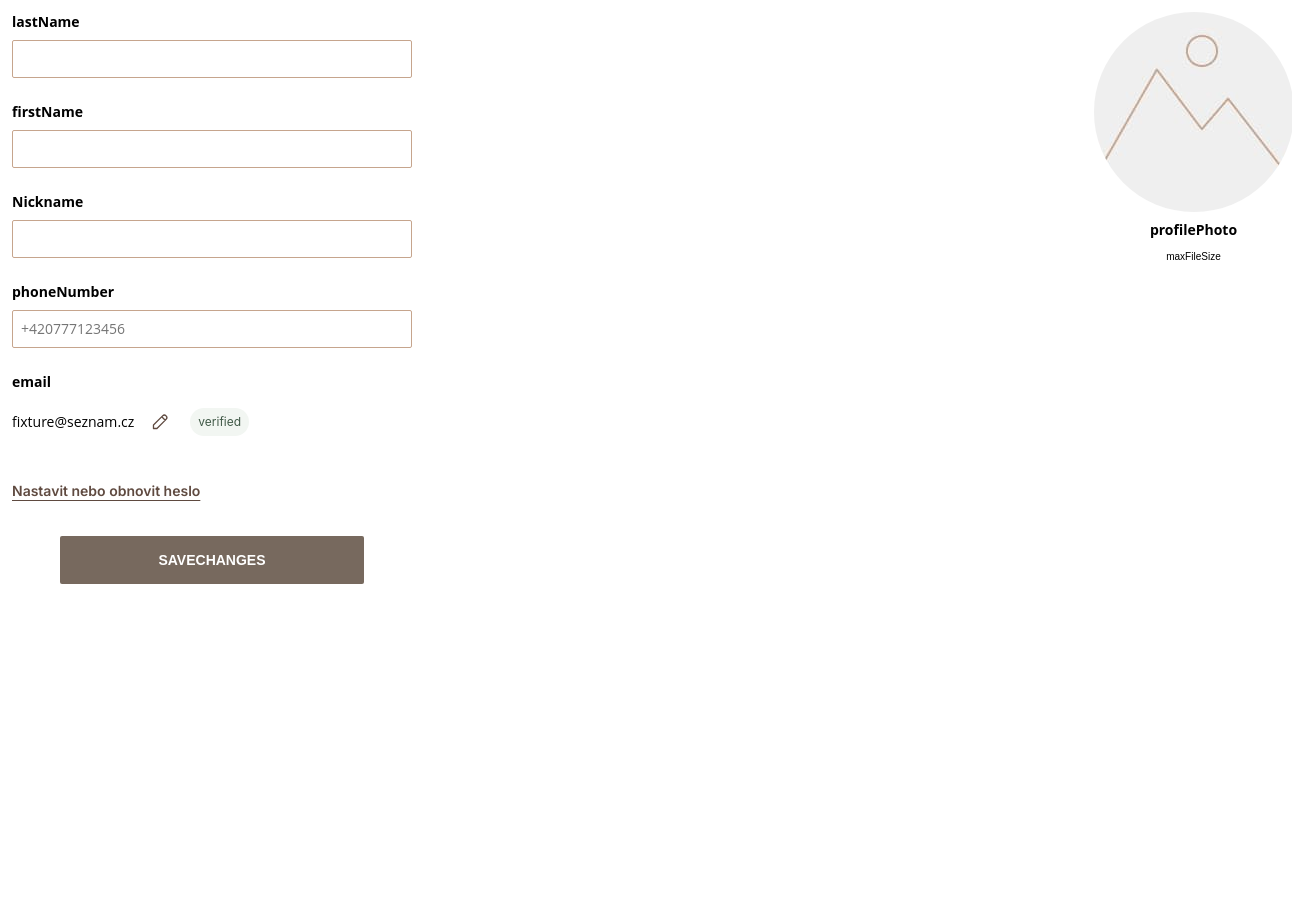
Test: successful save confirms completion and clears dirty state
The image size is (1304, 912).
Step 1. Type "Mykhailo" into the field labelled "firstName" → [212, 149], box [12,130,412,168]
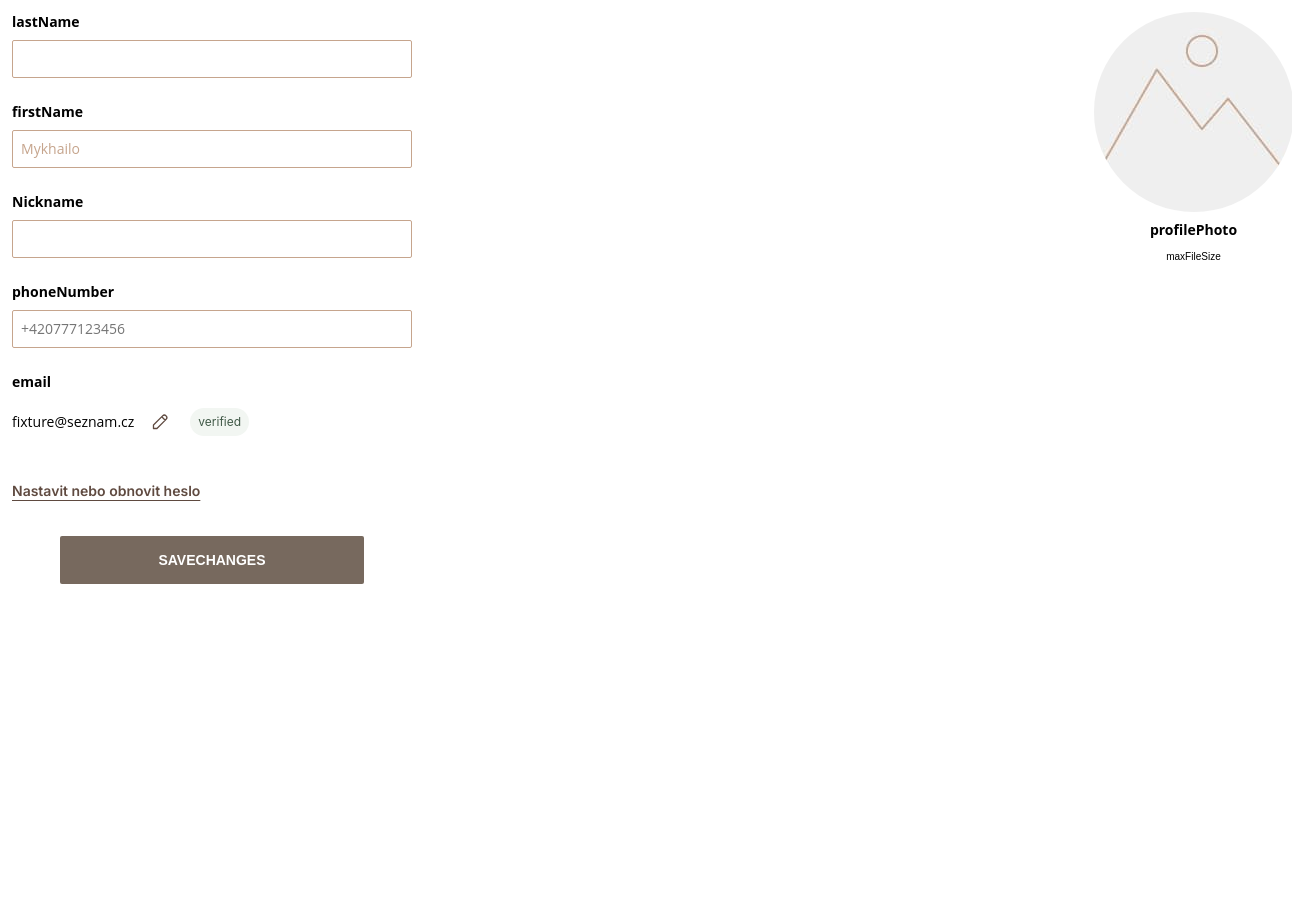
Step 2. Type "Stryzhka" into the field labelled "lastName" → [212, 59], box [12,40,412,78]
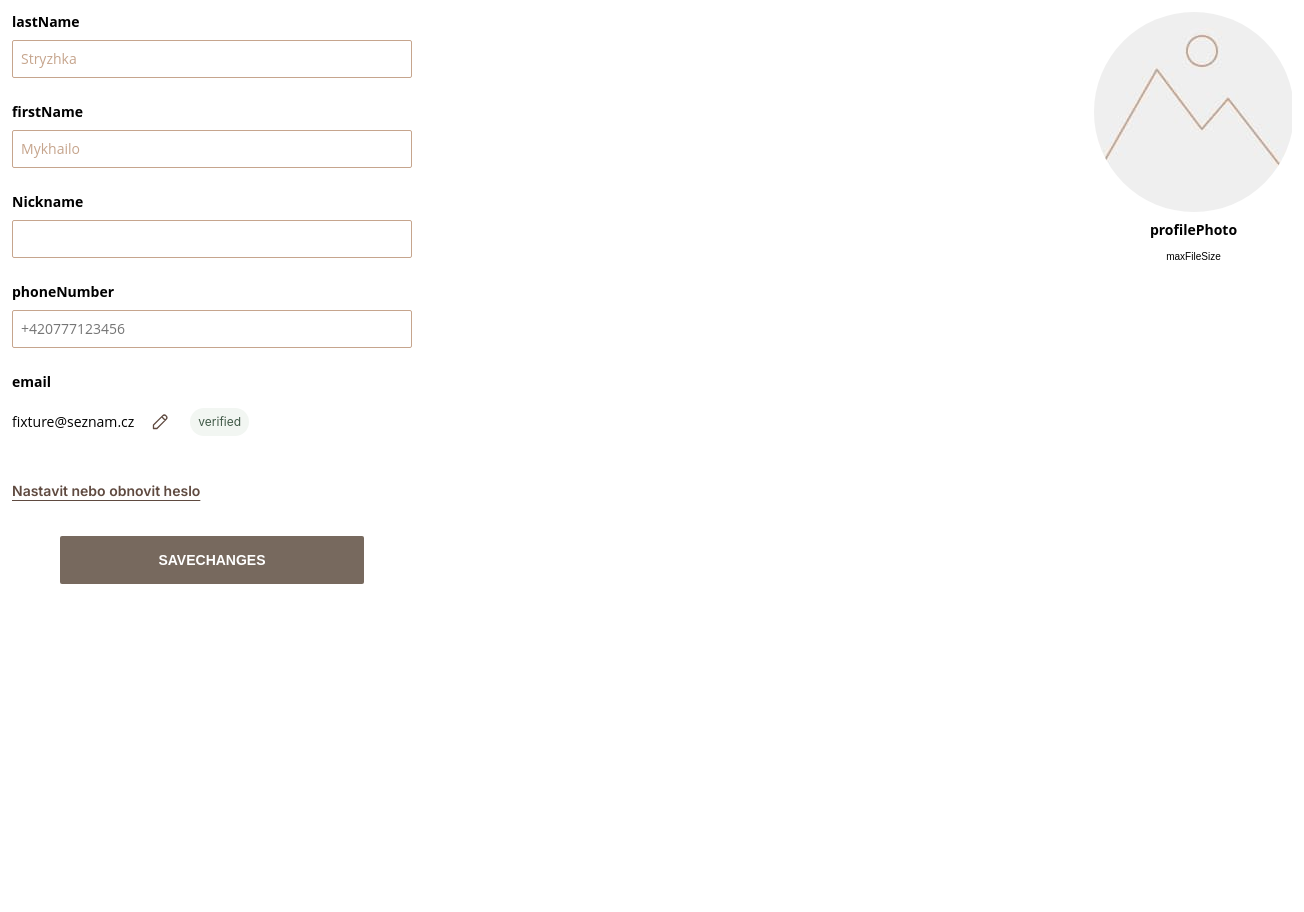
Step 3. Type "@mykhailo.test" into the field labelled "Nickname" → [212, 239], box [12,220,412,258]
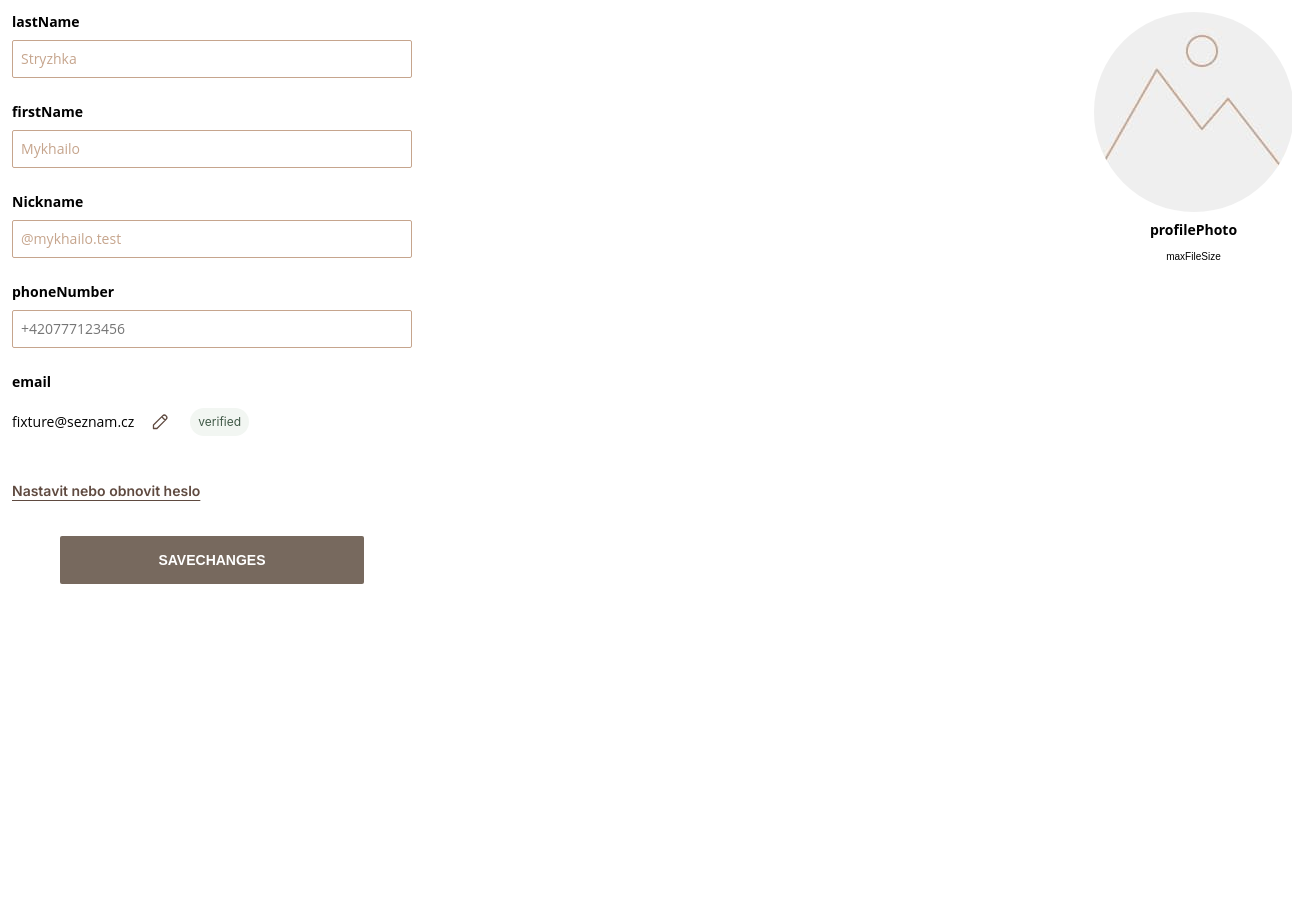
Step 4. Click the button "saveChanges" → [212, 560], box [60,536,364,584]
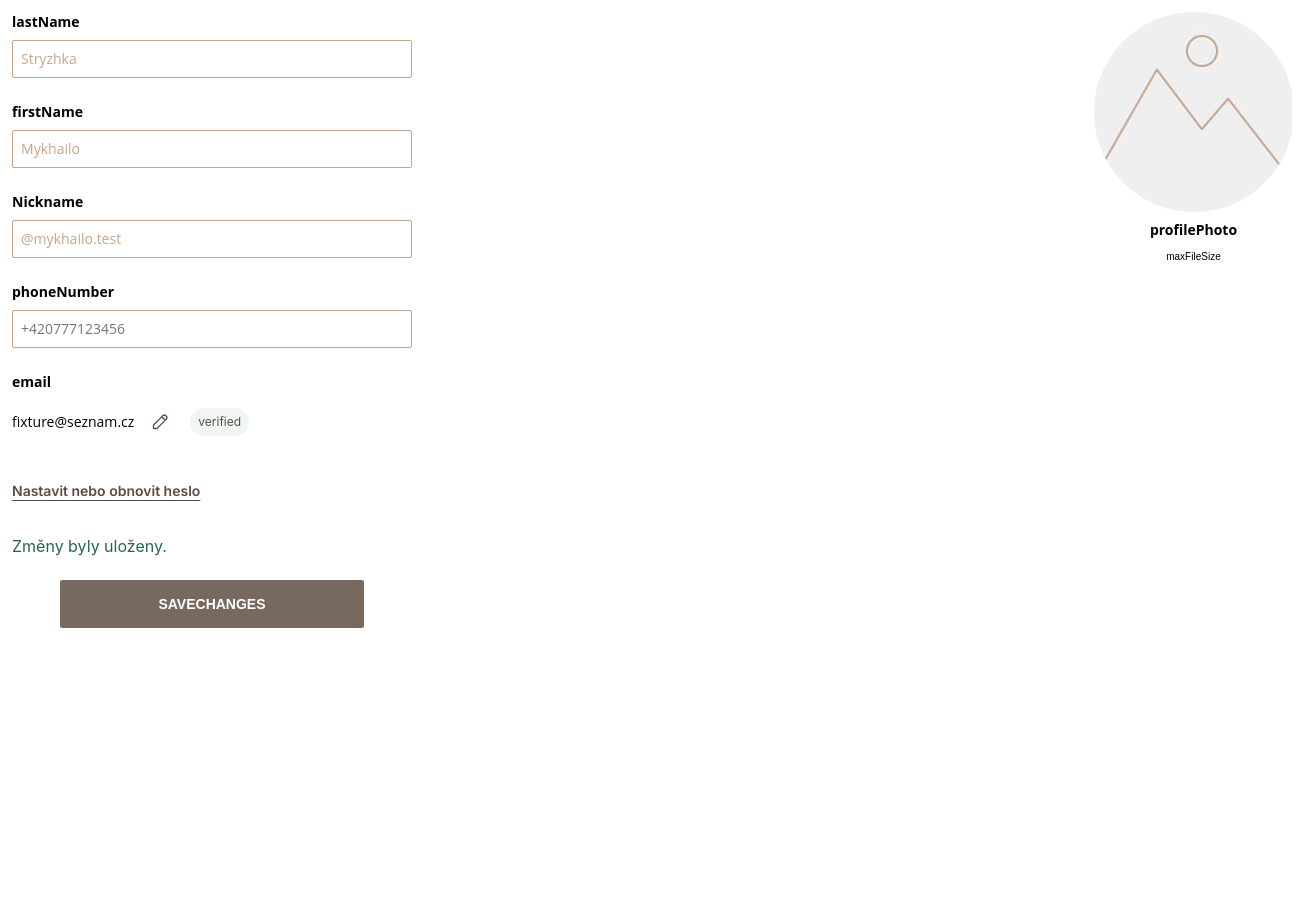
Check: the message reads "Změny byly uloženy.", box [12,536,167,556]
Check: the button "saveChanges" is disabled, box [60,580,364,628]
